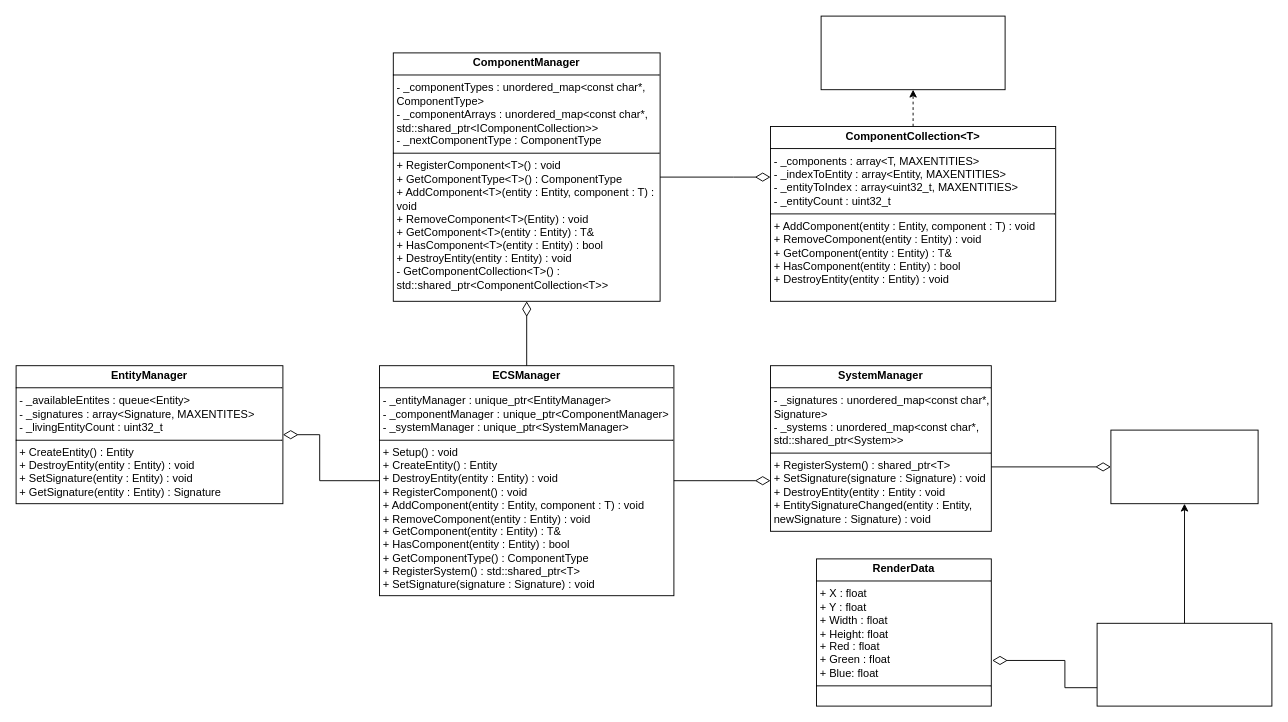
The diagram is 1288 pixels wide and 722 high, and some of its shapes have lost their labels. The box of each missing label's shape, as (x1, y1, x2, y2) in pixels:
<< IComponentCollection >> + DestroyEntity(entity : Entity) : void: (820, 15, 1005, 90)
Renderer + GetSignature() : static Signature + Render() : void: (1096, 622, 1272, 706)
System + Entities : set<Entity>: (1110, 429, 1258, 504)
